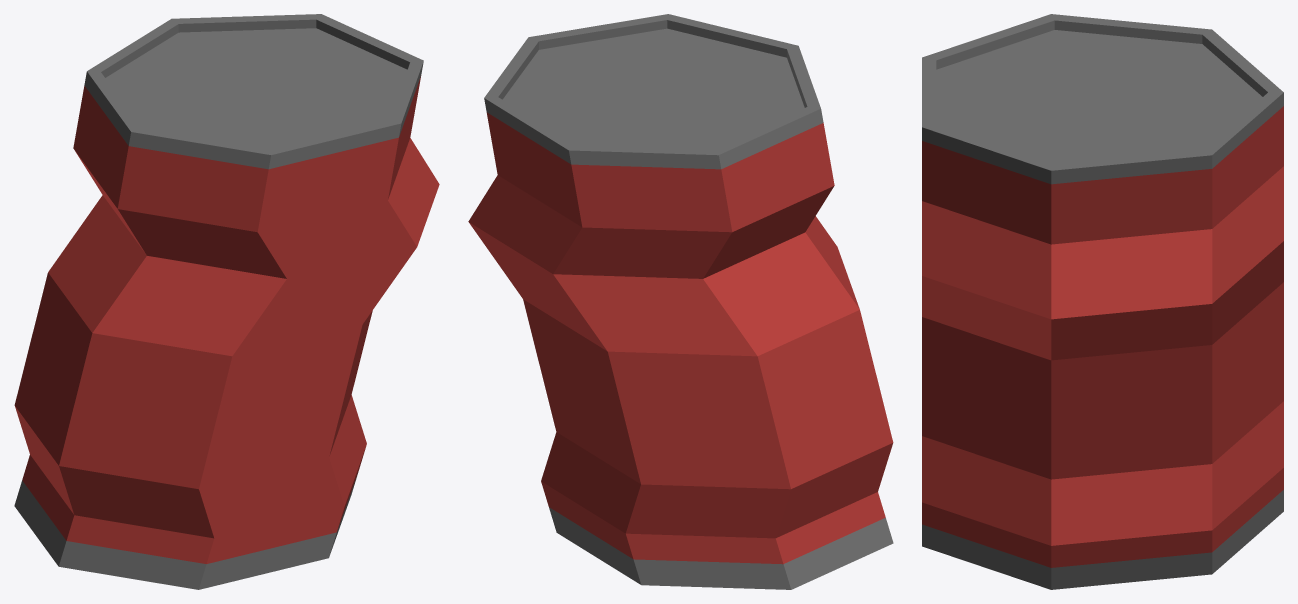
The model's file is RedCan003.fbx.
3 views of the same model, side by side, from view 1: azimuth 30°, elevation 25°; view 2: azimuth 150°, elevation 25°; view 3: azimuth 270°, elevation 25° (orthographic). The views are drawn at different scales.
Parts seen in each view (by area): view 1: CanRed003; view 2: CanRed003; view 3: CanRed003.
Boxes of the visible parts, left/top/right/bottom form: CanRed003: left=14, top=14, right=439, bottom=589; CanRed003: left=468, top=14, right=893, bottom=589; CanRed003: left=922, top=14, right=1283, bottom=589.
Size of the model in its own units: 86.94 by 90.95 by 65.11.
